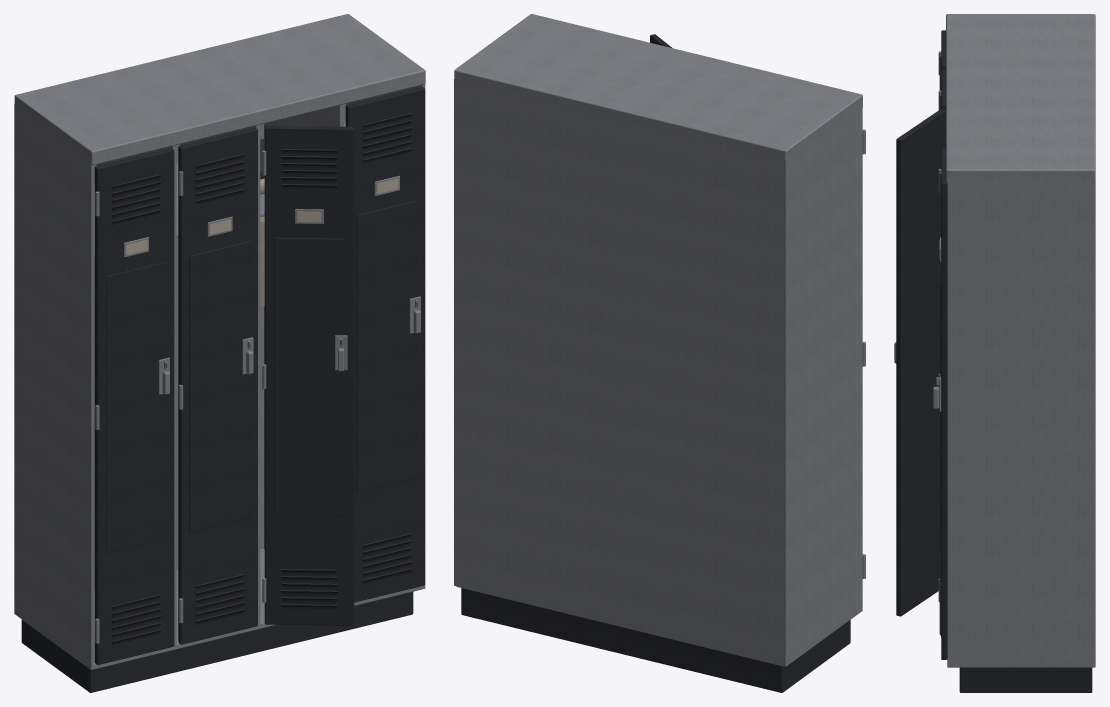
Rendered from locker_bank.glb.
3 views of the same model, side by side, from view 1: azimuth 30°, elevation 25°; view 2: azimuth 150°, elevation 25°; view 3: azimuth 270°, elevation 25° (orthographic). The views are drawn at different scales.
Visible parts, largest first — view 1: carcass_steel_brushed_0, door_3_graphite_0, door_1_graphite_0, door_2_graphite_0, door_4_graphite_0, carcass_graphite_1, door_3_plastic_dark_1, door_2_plastic_dark_1, door_1_plastic_dark_1, door_4_plastic_dark_1, door_3_steel_brushed_2, door_2_steel_brushed_2 (+2 smaller); view 2: carcass_steel_brushed_0, carcass_graphite_1; view 3: carcass_steel_brushed_0, door_3_graphite_0, door_4_graphite_0, carcass_graphite_1, door_4_steel_brushed_2.
Boxes of the visible parts, x1,y1,x2,y2 form: carcass_steel_brushed_0: (14, 14, 425, 669); door_3_graphite_0: (264, 125, 354, 625); door_1_graphite_0: (94, 148, 174, 664); door_2_graphite_0: (178, 127, 257, 644); door_4_graphite_0: (345, 87, 425, 602); carcass_graphite_1: (21, 592, 413, 692); door_3_plastic_dark_1: (282, 151, 341, 609); door_2_plastic_dark_1: (196, 156, 250, 624); door_1_plastic_dark_1: (112, 177, 166, 645); door_4_plastic_dark_1: (363, 115, 417, 583); door_3_steel_brushed_2: (262, 150, 347, 602); door_2_steel_brushed_2: (179, 171, 253, 623); carcass_steel_brushed_0: (454, 14, 862, 666); carcass_graphite_1: (461, 588, 850, 692); carcass_steel_brushed_0: (946, 14, 1095, 667); door_3_graphite_0: (896, 109, 945, 616); door_4_graphite_0: (939, 148, 947, 659); carcass_graphite_1: (959, 667, 1092, 692); door_4_steel_brushed_2: (933, 169, 941, 602).
Size of what is drawn, in the model's own units: 1.2 by 1.88 by 0.6515.
Materials: 7 (7 with a texture image).
